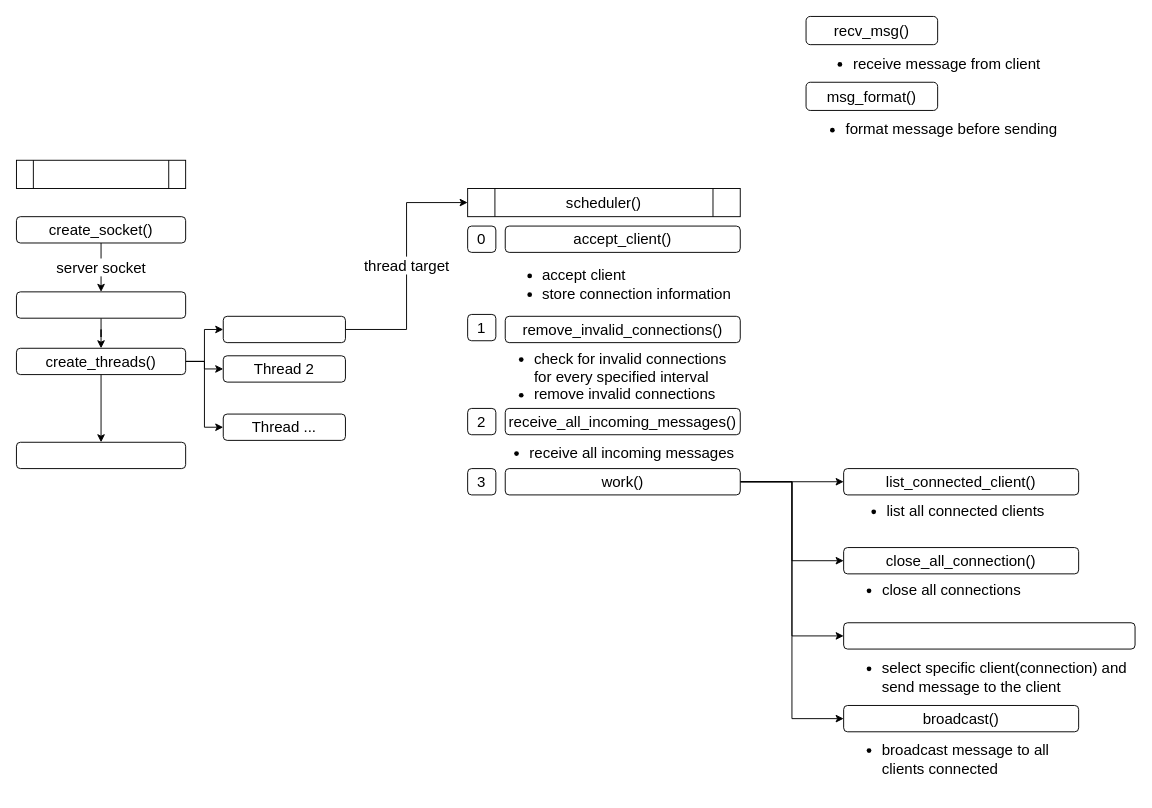
This 1152x808 diagram has some shape labels left out. Here are the shapes that lost their labels. From the top down, the centre of each, then its label:
At (101,173): "main()".
At (101,304): "bind_listen_socket()".
At (283,329): "Thread 1".
At (101,455): "create_tasks()".
At (989,635): "select_connection_and_send_message()".
